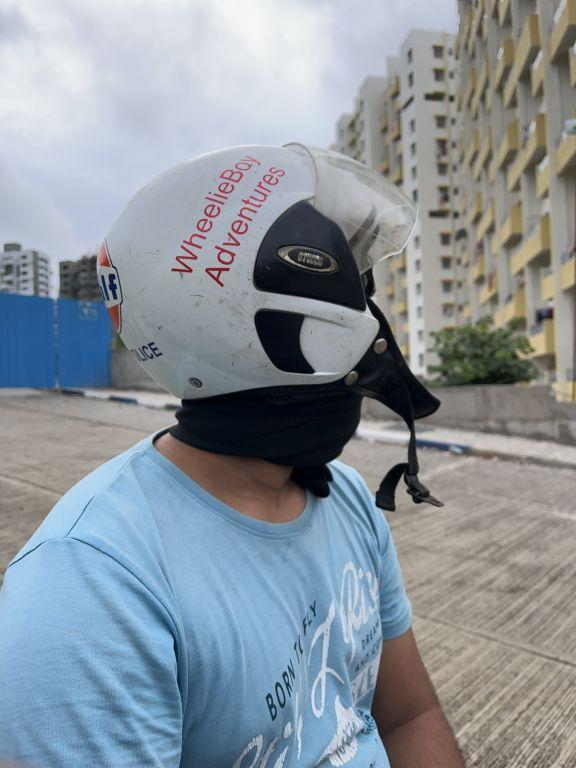helmet: (69, 130, 460, 457)
